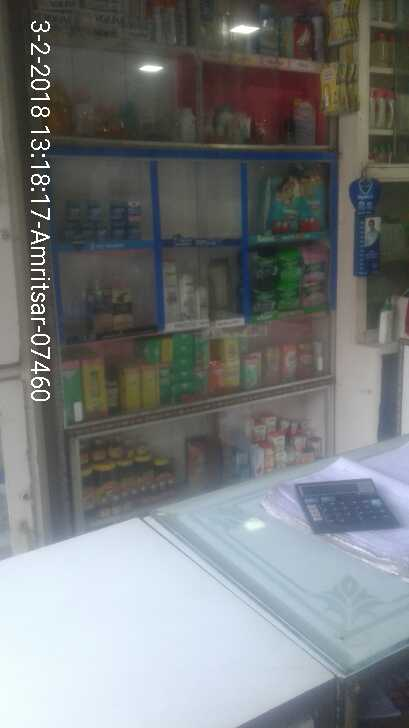vicks: (60, 194, 146, 243)
